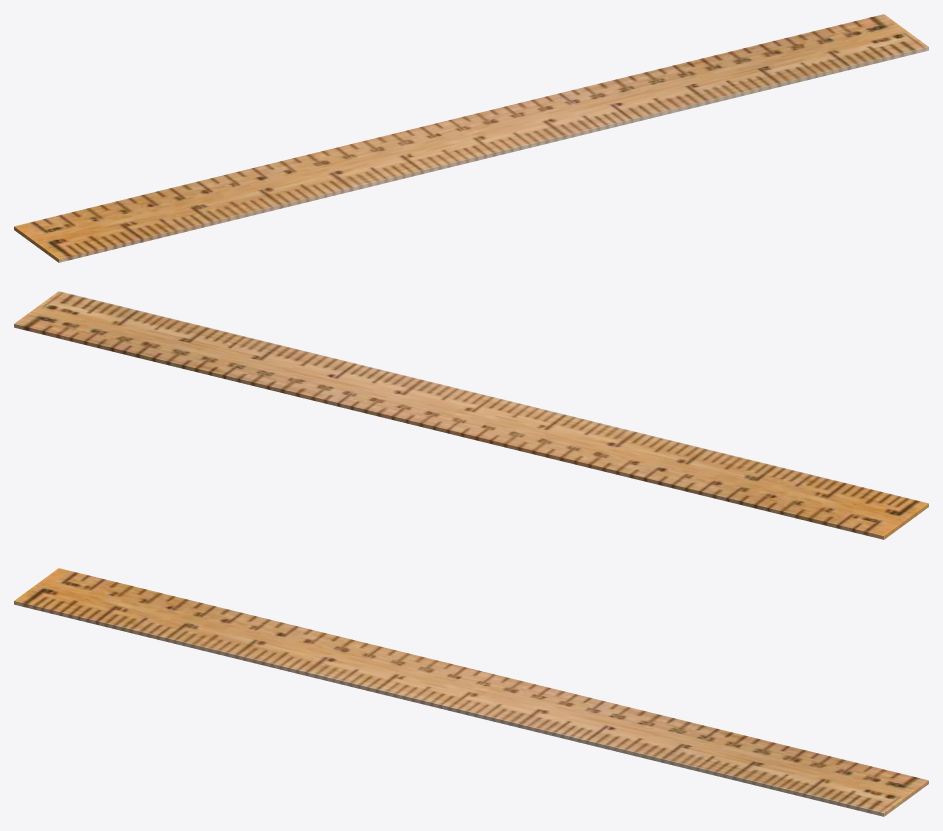
The model's file is ruler.glb.
3 renders of one model, top to bottom at view 1: azimuth 30°, elevation 25°; view 2: azimuth 150°, elevation 25°; view 3: azimuth 330°, elevation 25°, orthographic.
Parts seen in each view (by area): view 1: Node; view 2: Node; view 3: Node.
Boxes of the visible parts, x1,y1,x2,y2 form: Node: (14,14,928,262); Node: (14,291,928,539); Node: (14,568,928,816).
Size of the model in its own units: 17.65 by 0.0711 by 1.58.
Materials: 1 (1 with a texture image).
